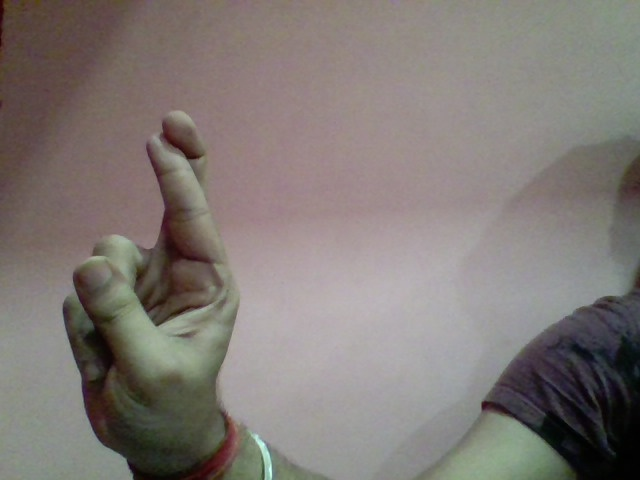r: (62, 102, 250, 459)
